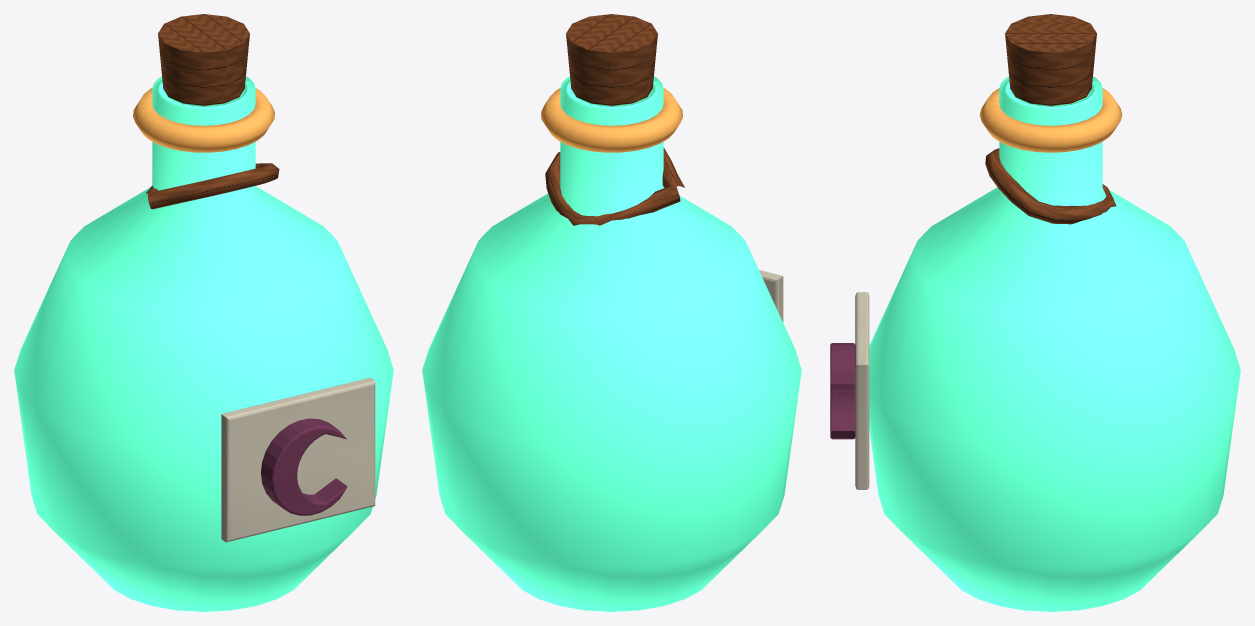
The model's file is hollowwick-halloween-round-elixir-bottle-3fd10dd5__21604.glb.
The picture shows the model from 3 angles, left to right: view 1: azimuth 30°, elevation 25°; view 2: azimuth 150°, elevation 25°; view 3: azimuth 270°, elevation 25°; orthographic projection.
Parts seen in each view (by area): view 1: round-elixir-bottle; view 2: round-elixir-bottle; view 3: round-elixir-bottle.
Part boxes in pixels (bbox=[...]): round-elixir-bottle: bbox=[14, 14, 393, 611]; round-elixir-bottle: bbox=[422, 14, 801, 611]; round-elixir-bottle: bbox=[830, 14, 1240, 611].
Size of the model in its own units: 0.33 by 0.513 by 0.357.
Materials: 5 (3 with a texture image).
